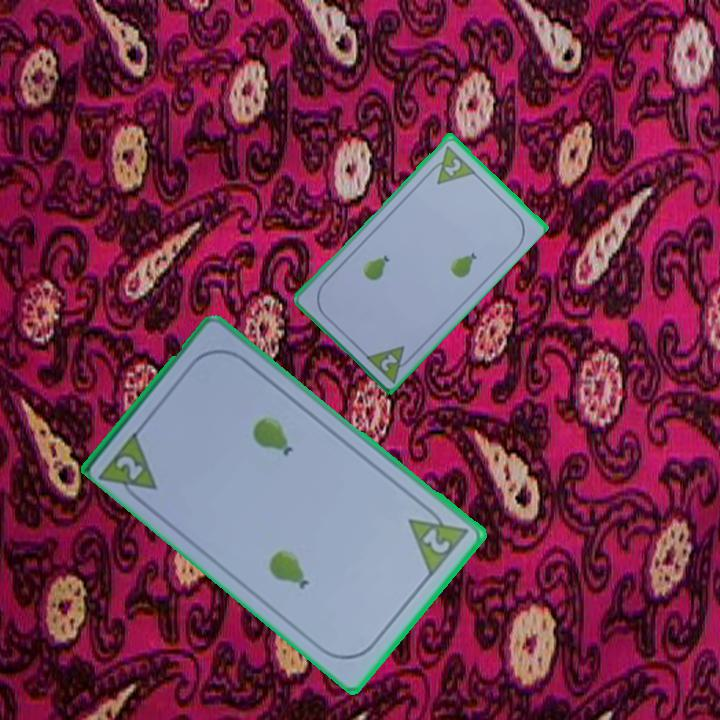2p: (419, 524, 454, 557), (113, 451, 147, 484), (441, 154, 464, 179), (377, 349, 400, 374)
